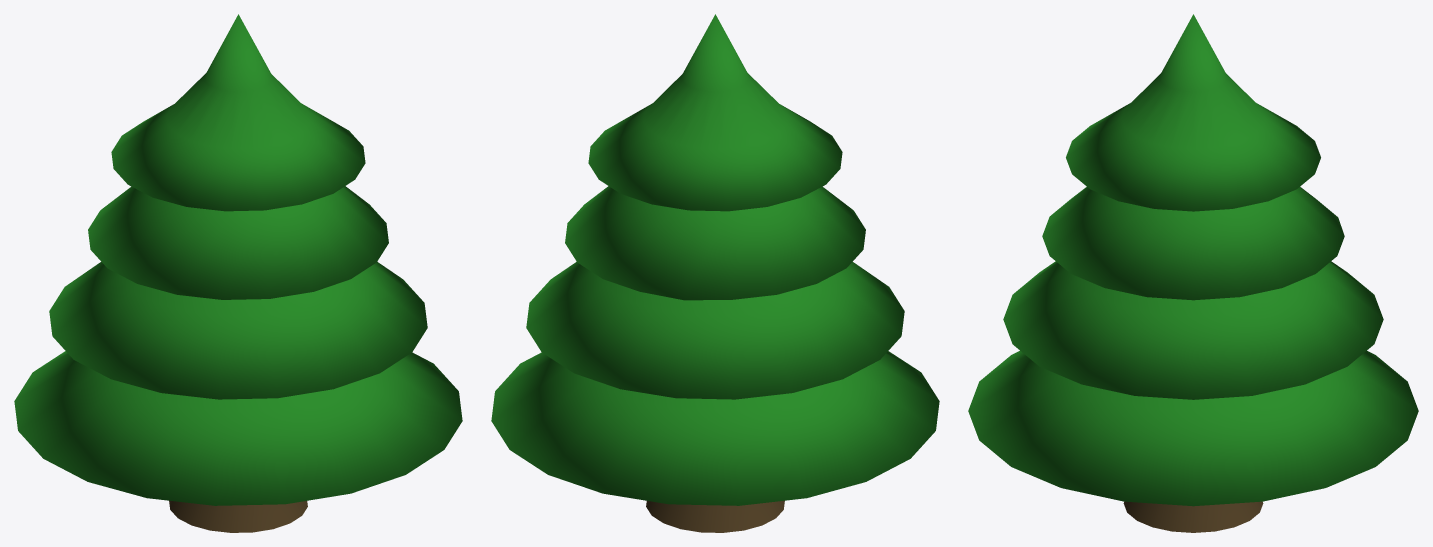
File: Small_Tree.fbx
3 views of the same model, side by side, from view 1: azimuth 30°, elevation 25°; view 2: azimuth 150°, elevation 25°; view 3: azimuth 270°, elevation 25° (orthographic).
Parts seen in each view (by area): view 1: Small_Tree; view 2: Small_Tree; view 3: Small_Tree.
Part boxes in pixels (left/top/right/bottom): Small_Tree: left=14, top=14, right=462, bottom=532; Small_Tree: left=491, top=14, right=939, bottom=532; Small_Tree: left=968, top=14, right=1418, bottom=532.
Size of the model in its own units: 1.23 by 1.48 by 1.23.
